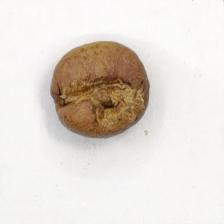NG: (61, 69, 145, 134)
